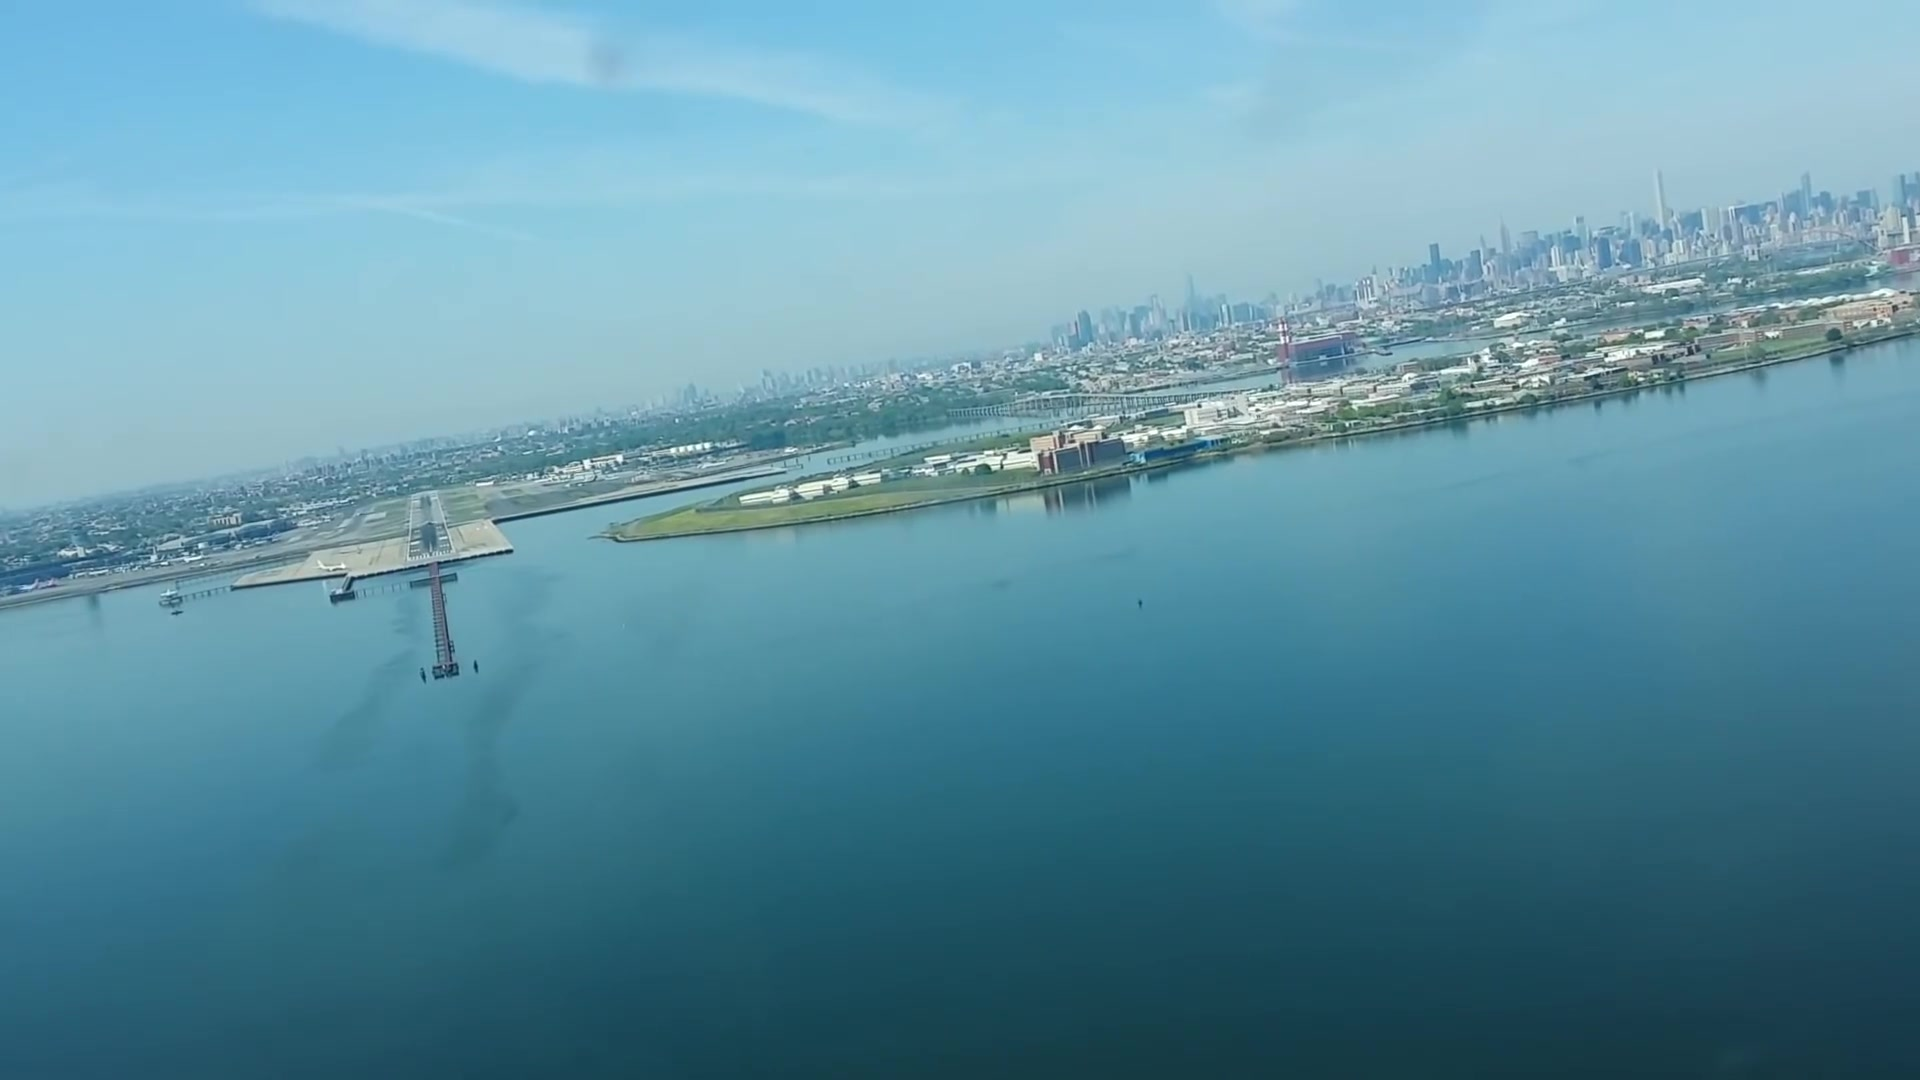runway: (402, 487, 455, 564)
